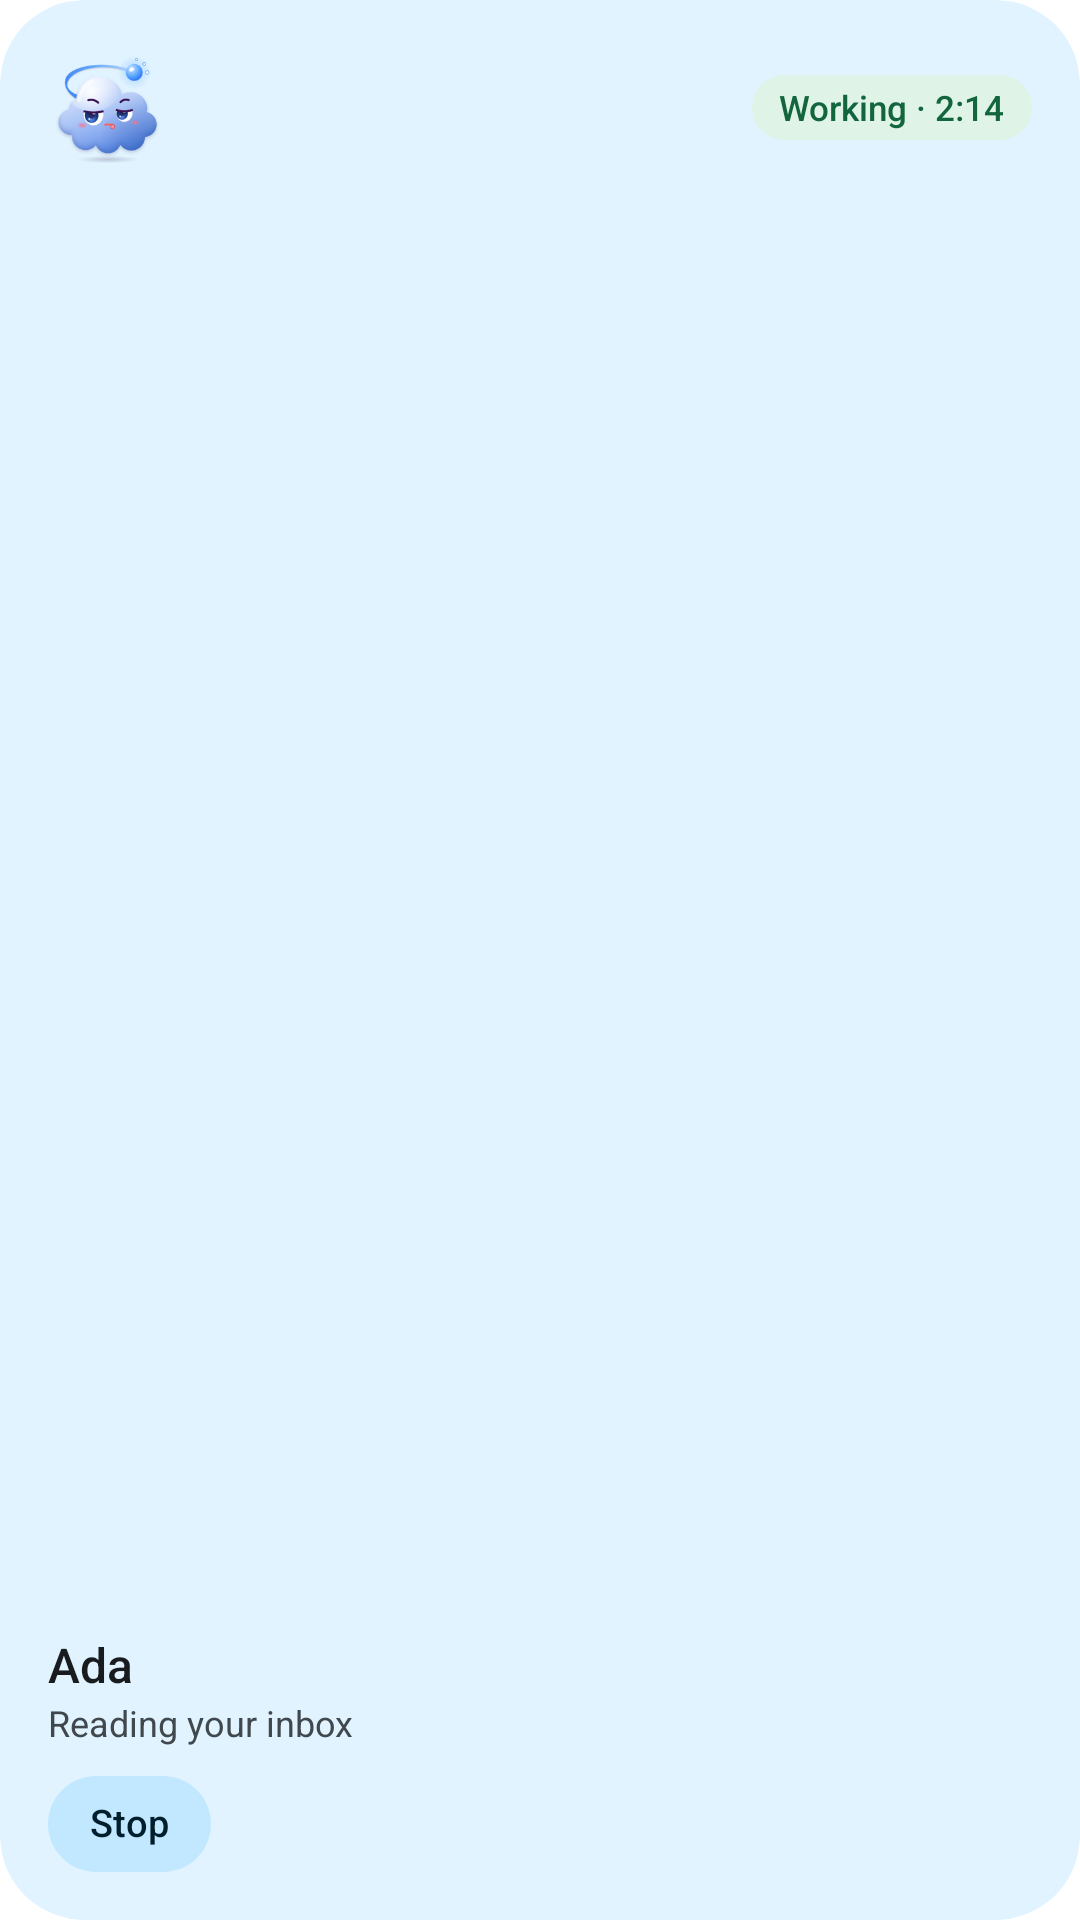

Point at icon controls on the screen. Image size 1080×1920, points as [x,y].
mascot: [107,109]
